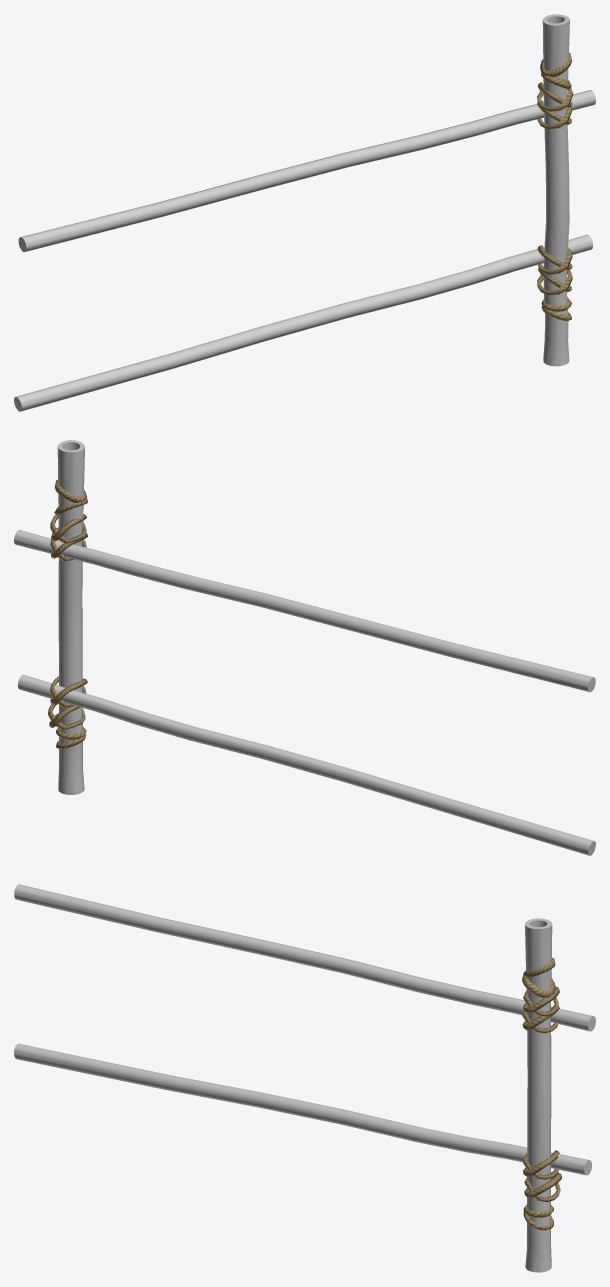
File: SM_EastLands_BambooFence_B_02.fbx
3 views of the same model, one above another, from view 1: azimuth 30°, elevation 25°; view 2: azimuth 150°, elevation 25°; view 3: azimuth 330°, elevation 25° (orthographic).
Parts seen in each view (by area): view 1: SM_EastLands_BambooFence_B_02_LOD0; view 2: SM_EastLands_BambooFence_B_02_LOD0; view 3: SM_EastLands_BambooFence_B_02_LOD0.
Part boxes in pixels (x1,y1,x2,y2): SM_EastLands_BambooFence_B_02_LOD0: (14, 14, 595, 411); SM_EastLands_BambooFence_B_02_LOD0: (14, 440, 595, 855); SM_EastLands_BambooFence_B_02_LOD0: (14, 884, 595, 1272).
Bounding box in the file's own units: 237 × 135 × 17.63.
